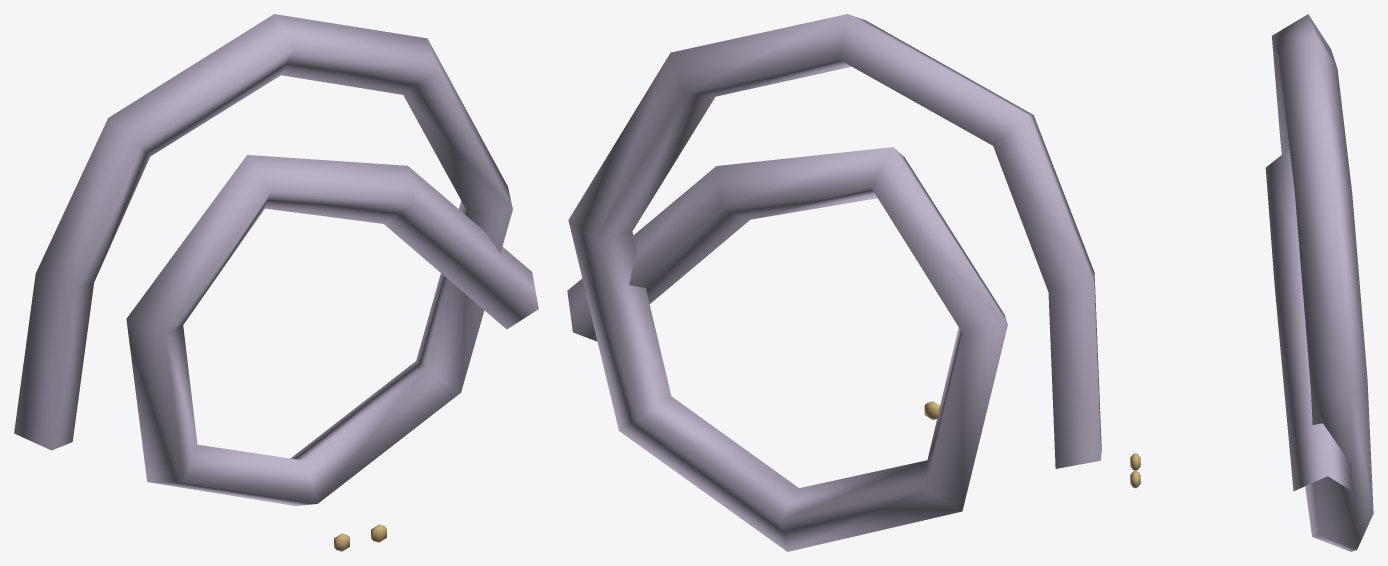
The picture shows the model from 3 angles, left to right: view 1: azimuth 30°, elevation 25°; view 2: azimuth 150°, elevation 25°; view 3: azimuth 270°, elevation 25°; orthographic projection. The views are drawn at different scales.
Parts seen in each view (by area): view 1: g_s43; view 2: g_s43; view 3: g_s43.
Part boxes in pixels (box(x1,y1,x2,y2)): g_s43: box(14, 14, 538, 551); g_s43: box(567, 14, 1101, 551); g_s43: box(1130, 14, 1373, 551).
Size of the model in its own units: 0.4894 by 0.4665 by 0.207.
